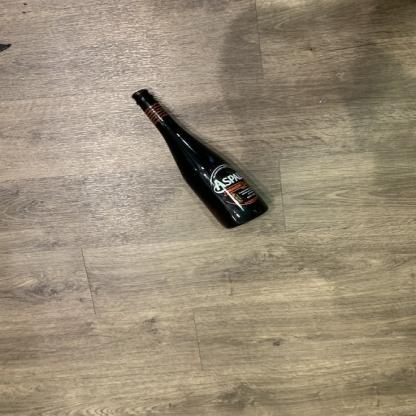trash: (130, 86, 274, 232)
